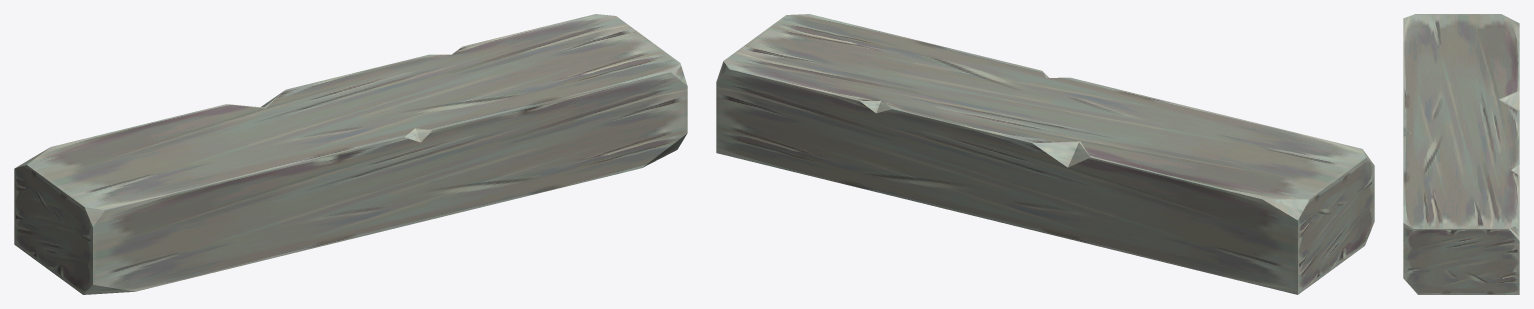
Rendered from StoneBridge.fbx.
3 views of the same model, side by side, from view 1: azimuth 30°, elevation 25°; view 2: azimuth 150°, elevation 25°; view 3: azimuth 270°, elevation 25° (orthographic). The views are drawn at different scales.
Parts seen in each view (by area): view 1: n0b0; view 2: n0b0; view 3: n0b0.
Part boxes in pixels (x1,y1,x2,y2): n0b0: [14, 14, 687, 294]; n0b0: [716, 14, 1374, 294]; n0b0: [1403, 14, 1519, 294].
Size of the model in its own units: 8.89 by 1.27 by 2.03.
1 material, 1 textured.
